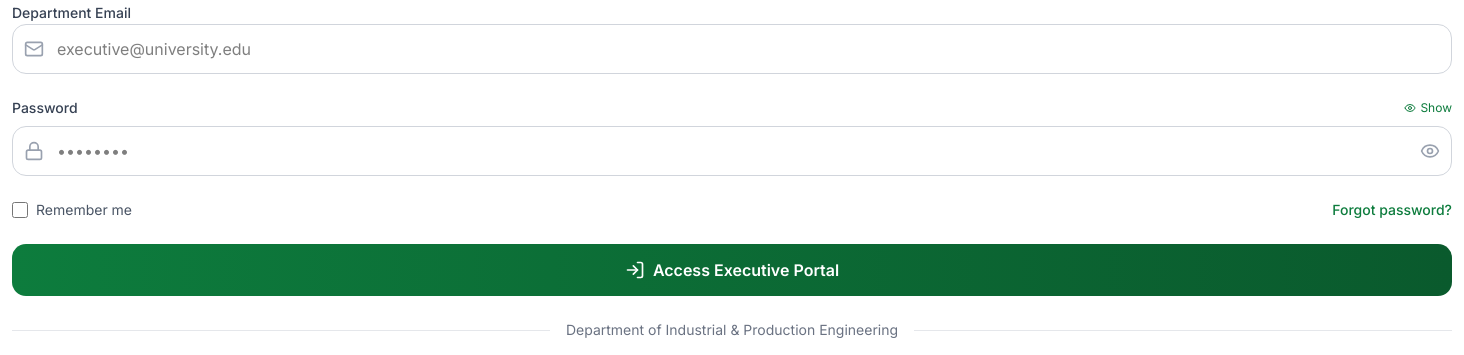
Test: LoginForm › disables the submit button while loading
This screenshot has width=1464, height=355.
In the field labelled "Department Email": (732, 49) [12,24,1452,74], type "test@uni.edu"
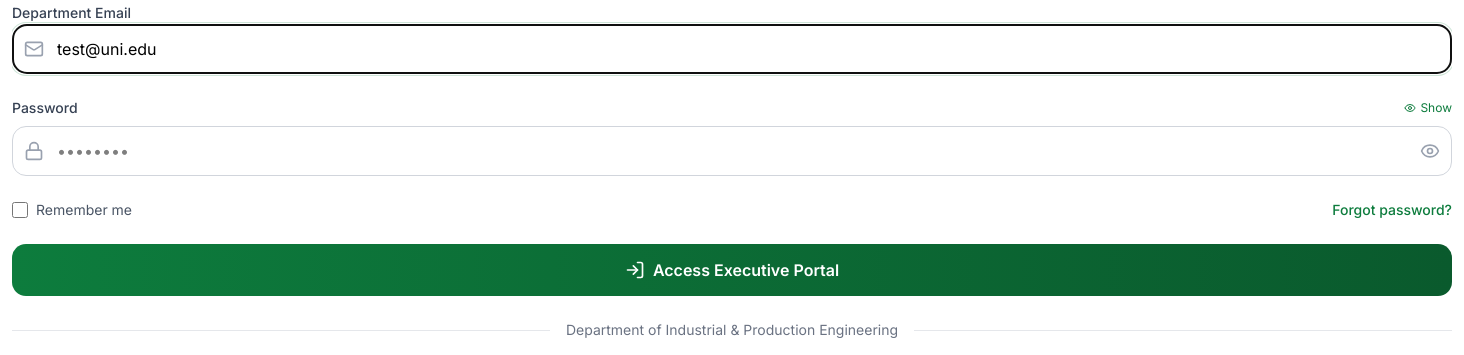
In the password field labelled "Password": (732, 151) [12,126,1452,176], type "pass"
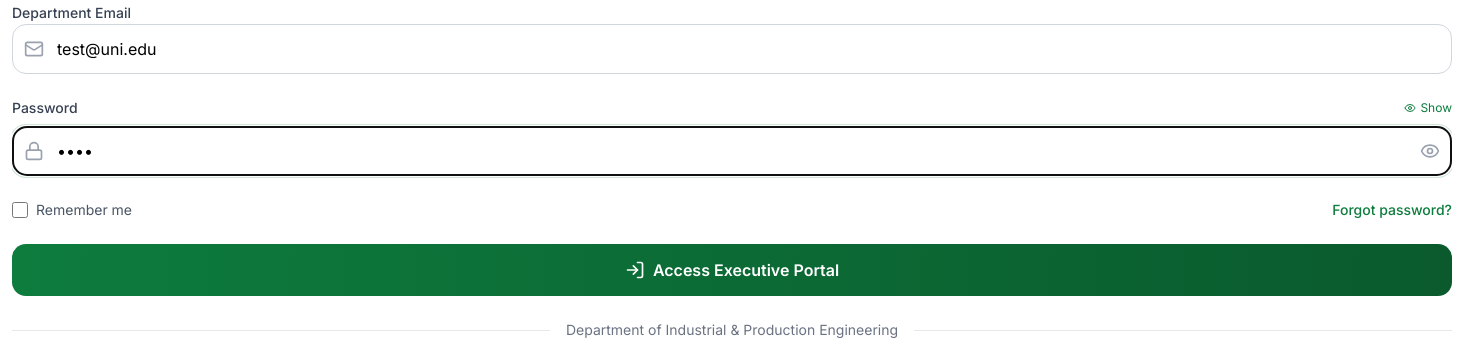
Click the button "Access Executive Portal": (732, 270) [12,244,1452,296]
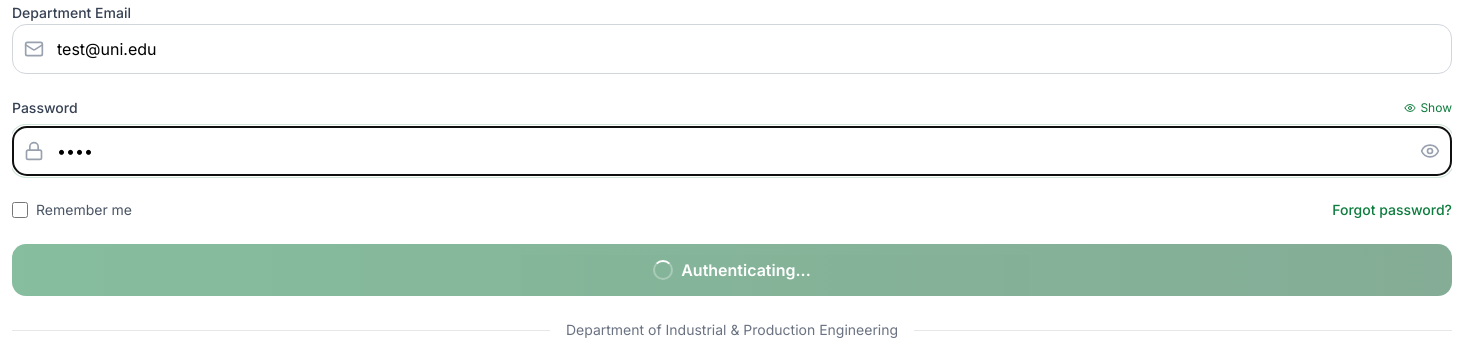
Expected: the button "Authenticating..." is disabled, [12,244,1452,296]
